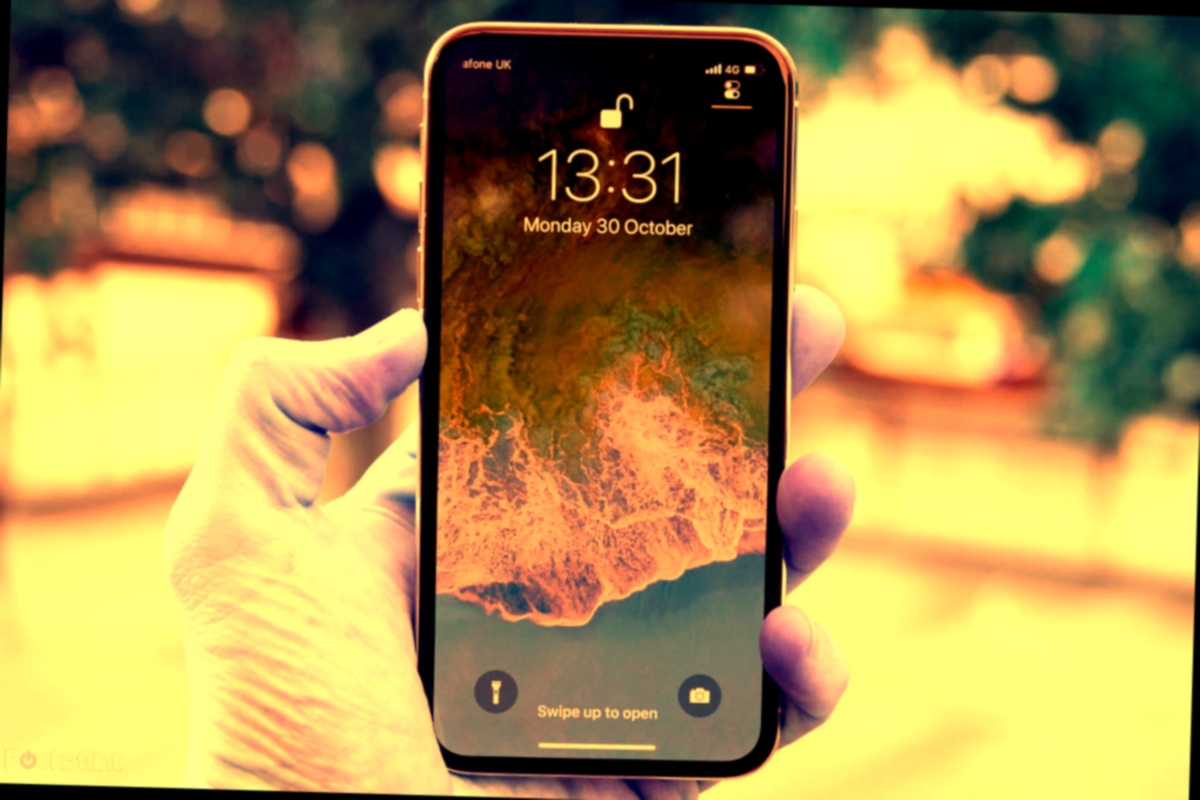iphone: (414, 24, 791, 778)
